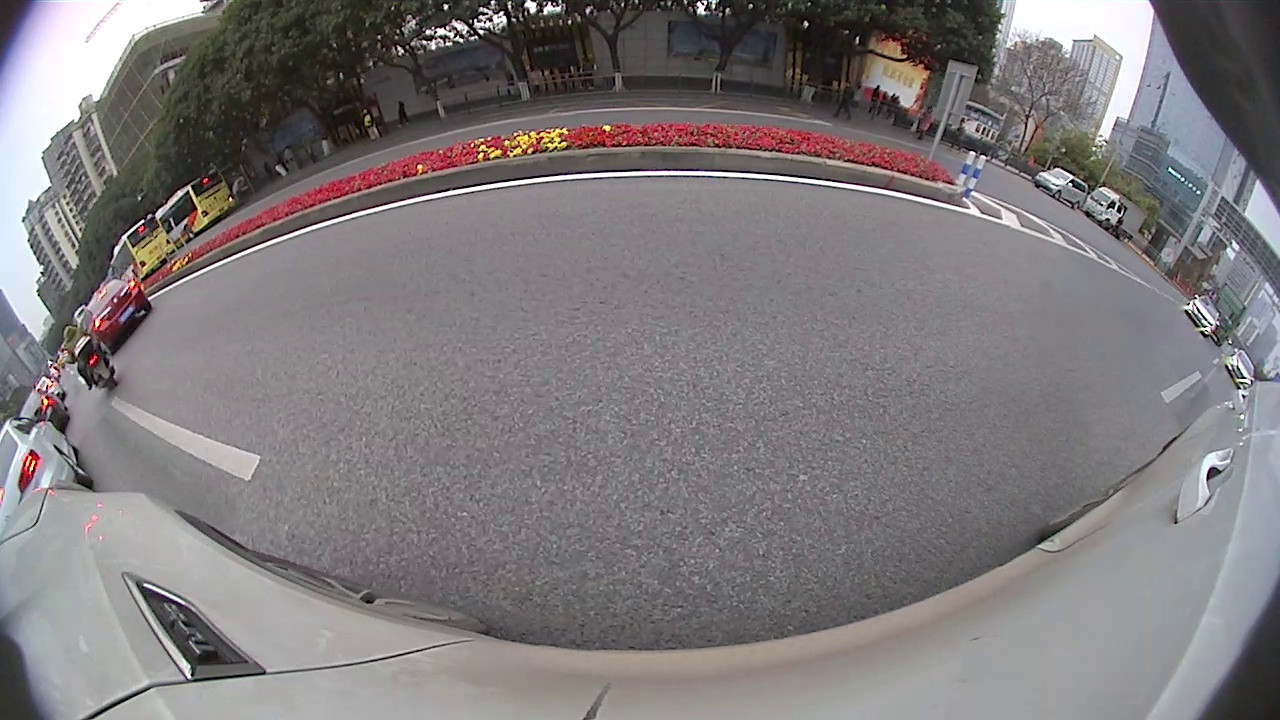bus: (156, 159, 234, 245), (104, 206, 170, 281)
car: (0, 414, 95, 506), (74, 274, 149, 348), (13, 382, 71, 430), (1034, 167, 1090, 212), (1184, 292, 1221, 336), (1223, 347, 1258, 391)
person: (843, 79, 854, 120), (923, 105, 933, 140)
rider: (59, 322, 114, 394)
truck: (1085, 185, 1145, 242), (1212, 278, 1250, 346)
